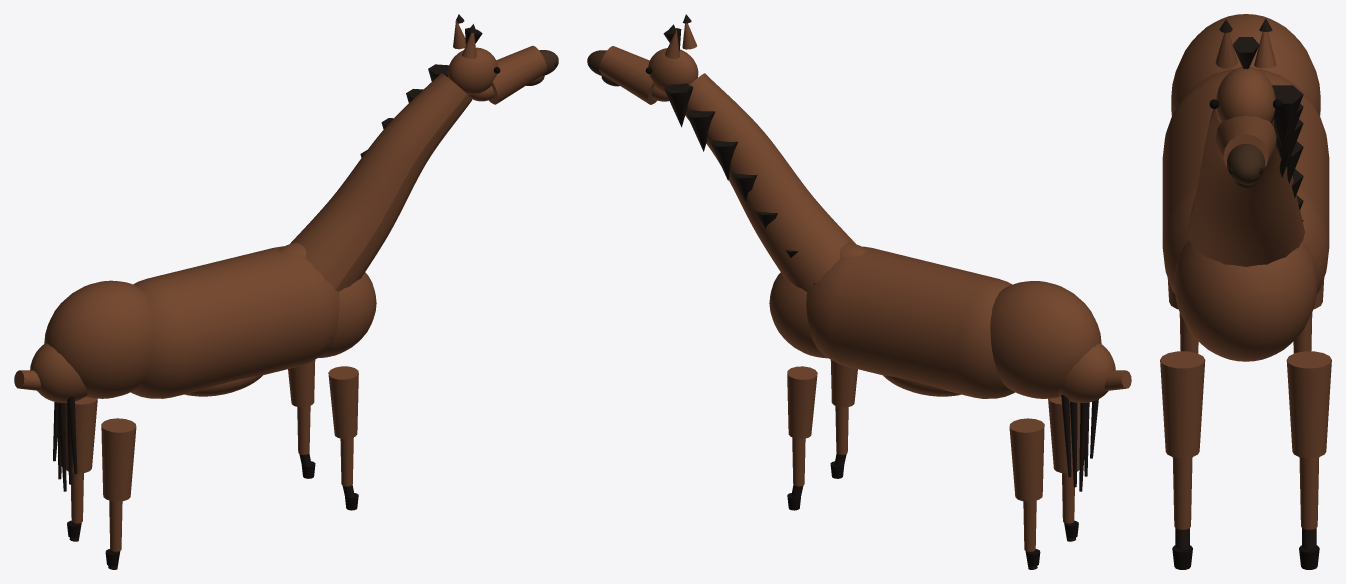
File: brown-thoroughbred-horse.glb
3 views of the same model, side by side, from view 1: azimuth 30°, elevation 25°; view 2: azimuth 150°, elevation 25°; view 3: azimuth 270°, elevation 25° (orthographic). The views are drawn at different scales.
Visible parts, largest first — view 1: ribcage_barrel, neck, hindquarter_croup, leg_hind_right_upper, chest, rump, leg_front_right_upper, nasal_bridge, tail, skull, leg_hind_left_upper, leg_front_left_upper; view 2: ribcage_barrel, neck, hindquarter_croup, leg_hind_left_upper, mane, chest, rump, tail, leg_front_left_upper, nasal_bridge, skull, leg_hind_right_upper (+1 smaller); view 3: chest, ribcage_barrel, neck, hindquarter_croup, leg_front_right_upper, leg_front_left_upper, skull, mane, nasal_bridge, leg_front_right_cannon, leg_front_left_cannon, muzzle (+9 smaller).
Boxes of the visible parts, x1,y1,x2,y2 form: ribcage_barrel: [130, 246, 339, 398]; neck: [290, 73, 472, 291]; hindquarter_croup: [44, 280, 155, 398]; leg_hind_right_upper: [101, 418, 136, 501]; chest: [318, 272, 376, 357]; rump: [30, 343, 87, 402]; leg_front_right_upper: [328, 366, 358, 438]; nasal_bridge: [489, 45, 547, 104]; tail: [53, 396, 77, 491]; skull: [447, 47, 497, 94]; leg_hind_left_upper: [65, 397, 97, 473]; leg_front_left_upper: [288, 360, 315, 407]; ribcage_barrel: [806, 246, 1014, 398]; neck: [685, 73, 855, 292]; hindquarter_croup: [990, 281, 1101, 398]; leg_hind_left_upper: [1009, 418, 1044, 501]; mane: [664, 83, 814, 284]; chest: [769, 272, 827, 358]; rump: [1058, 343, 1115, 402]; tail: [1061, 394, 1098, 491]; leg_front_left_upper: [787, 366, 817, 438]; nasal_bridge: [599, 46, 657, 104]; skull: [648, 48, 698, 93]; leg_hind_right_upper: [1048, 397, 1080, 473]; chest: [1175, 241, 1316, 361]; ribcage_barrel: [1162, 68, 1329, 294]; neck: [1187, 109, 1304, 266]; hindquarter_croup: [1171, 14, 1320, 115]; leg_front_right_upper: [1160, 351, 1205, 457]; leg_front_left_upper: [1286, 351, 1331, 457]; skull: [1216, 67, 1275, 122]; mane: [1271, 85, 1303, 221]; nasal_bridge: [1215, 115, 1276, 167]; leg_front_right_cannon: [1172, 457, 1192, 529]; leg_front_left_cannon: [1299, 457, 1319, 529]; muzzle: [1227, 143, 1264, 184].
Bounding box in the file's own units: 4.04 × 3.18 × 0.76.
